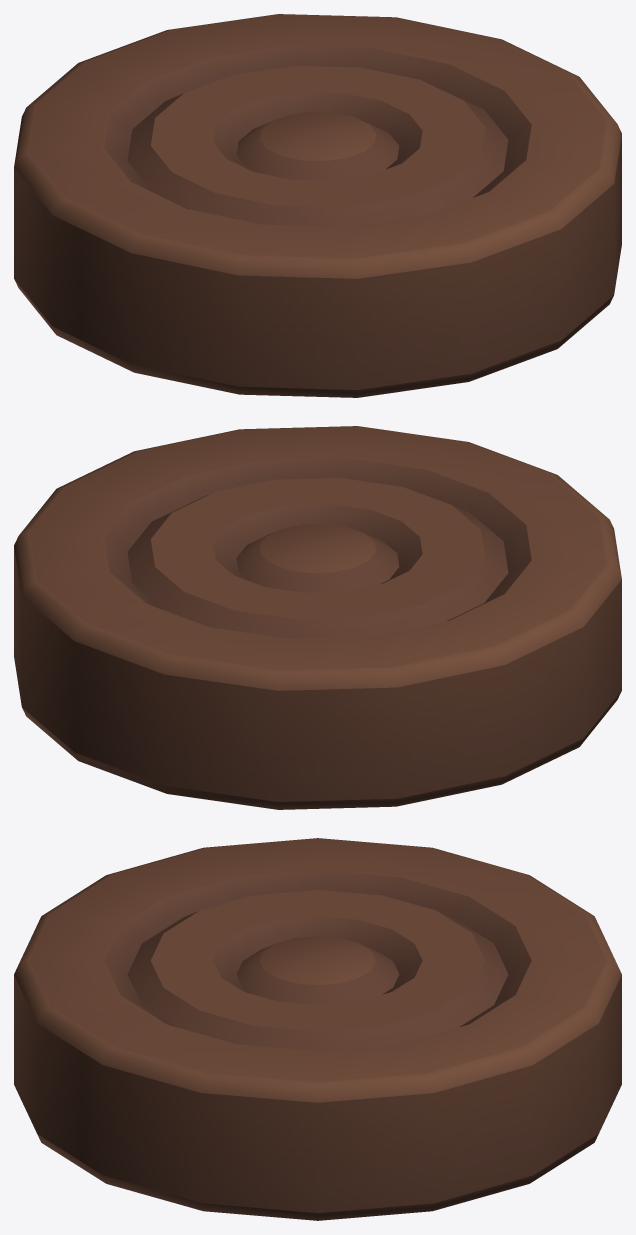
Rendered from checker_black_single.obj.
The picture shows the model from 3 angles, top to bottom: view 1: azimuth 30°, elevation 25°; view 2: azimuth 150°, elevation 25°; view 3: azimuth 270°, elevation 25°; orthographic projection.
Visible parts, largest first — view 1: checker_black_single; view 2: checker_black_single; view 3: checker_black_single.
Boxes of the visible parts, x1,y1,x2,y2 form: checker_black_single: (14,14,621,397); checker_black_single: (14,426,621,809); checker_black_single: (14,838,621,1220).
Bounding box in the file's own units: 0.8 × 0.2 × 0.8.
Materials: 1 (1 with a texture image).
